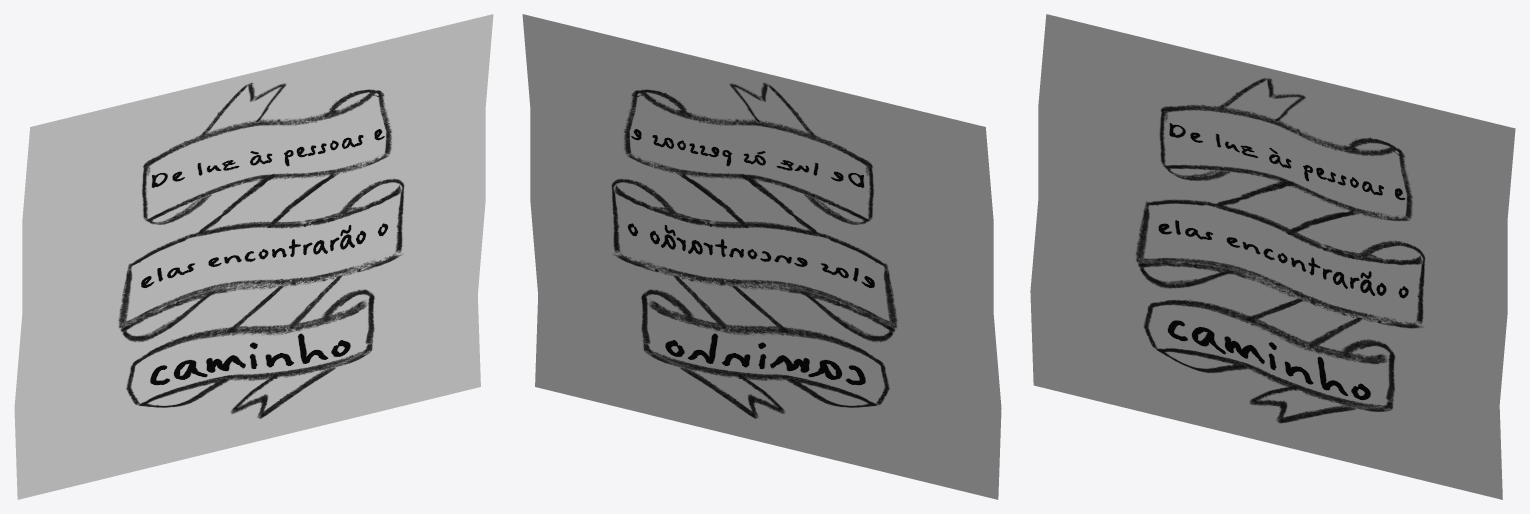
File: Quadrofrasetop.FBX
3 views of the same model, side by side, from view 1: azimuth 30°, elevation 25°; view 2: azimuth 150°, elevation 25°; view 3: azimuth 330°, elevation 25° (orthographic).
Visible parts, largest first — view 1: Plane001; view 2: Plane001; view 3: Plane001.
Part boxes in pixels (bbox=[...]): Plane001: bbox=[14, 14, 493, 499]; Plane001: bbox=[522, 14, 1001, 499]; Plane001: bbox=[1030, 14, 1515, 499].
Bounding box in the file's own units: 159 × 118 × 1.92e-05.
Materials: 1 (1 with a texture image).
